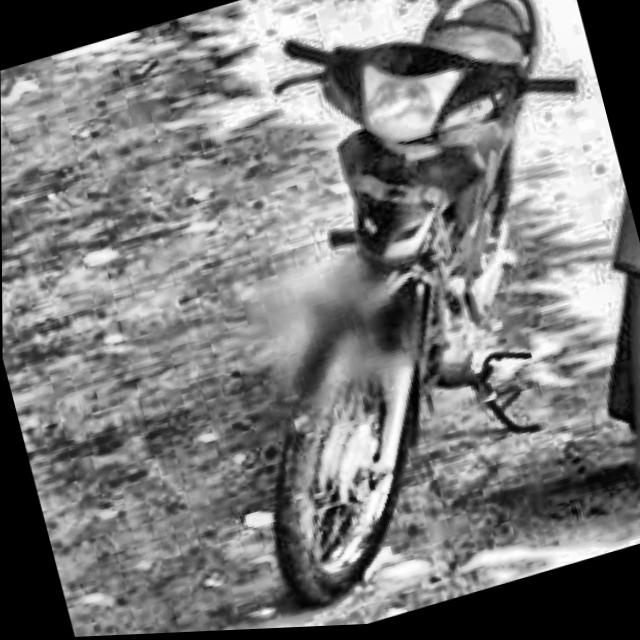motorcycle: (138, 0, 640, 632)
